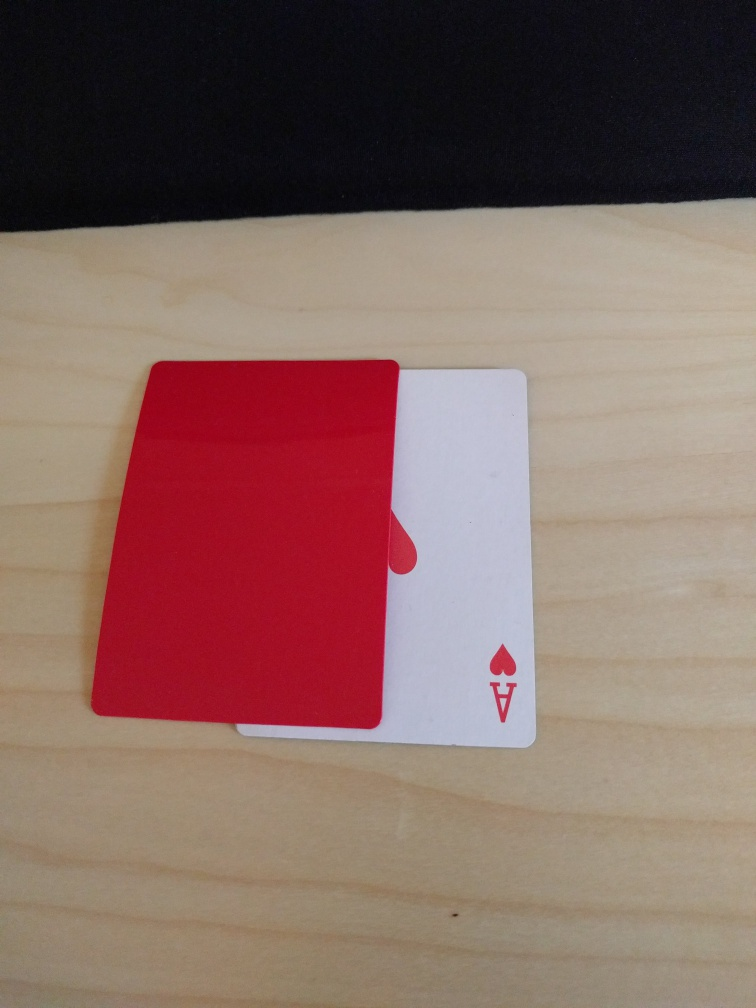ace: (236, 367, 538, 753)
